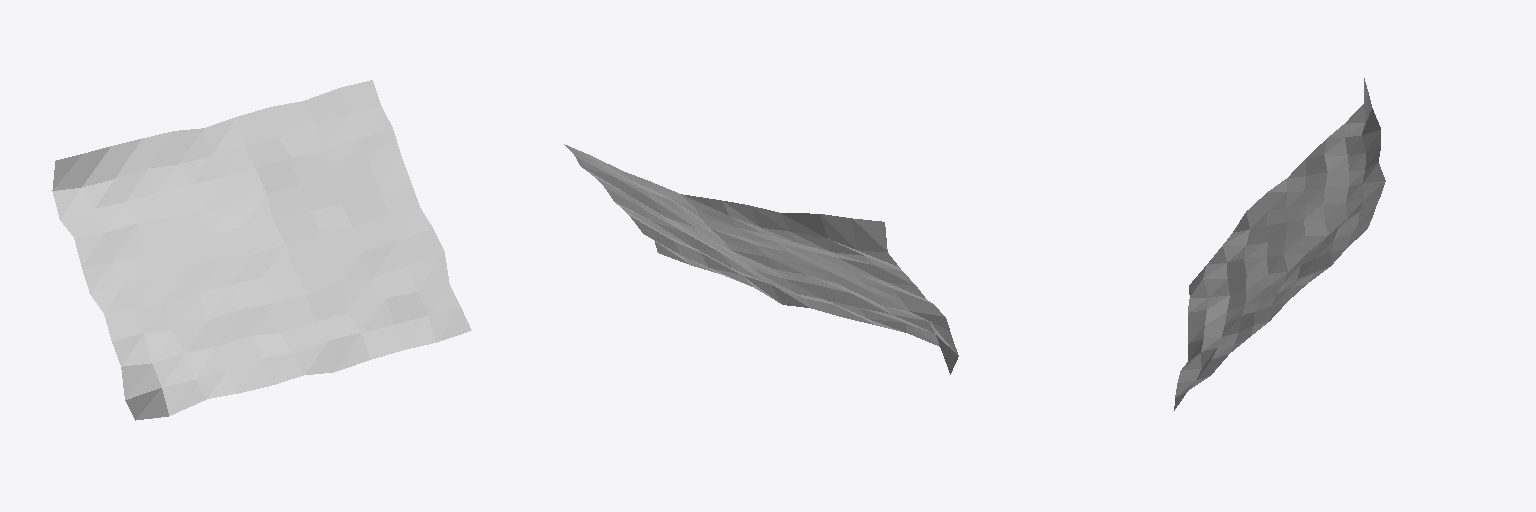
The model's file is paper-rot1.obj.
3 renders of one model, left to right at view 1: azimuth 30°, elevation 25°; view 2: azimuth 150°, elevation 25°; view 3: azimuth 270°, elevation 25°, orthographic.
Parts seen in each view (by area): view 1: pPlane2; view 2: pPlane2; view 3: pPlane2.
Boxes of the visible parts, x1=… form: pPlane2: x1=52, y1=80, x2=471, y2=420; pPlane2: x1=564, y1=144, x2=958, y2=374; pPlane2: x1=1174, y1=78, x2=1385, y2=410.
Size of the model in its own units: 1.35 by 0.8272 by 0.7557.